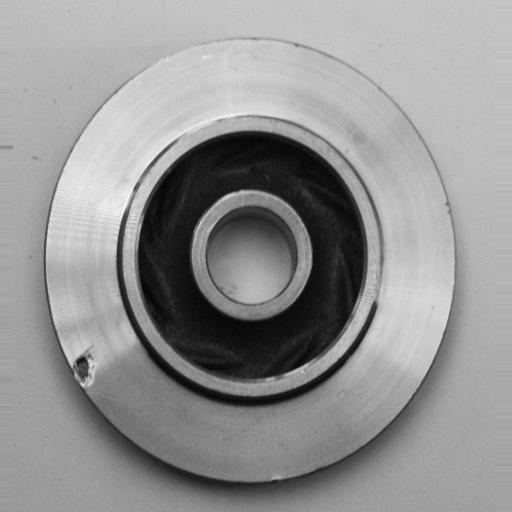crack: (62, 335, 108, 400)
scratch: (155, 110, 248, 151)
unpolished_casting: (40, 36, 458, 490)
